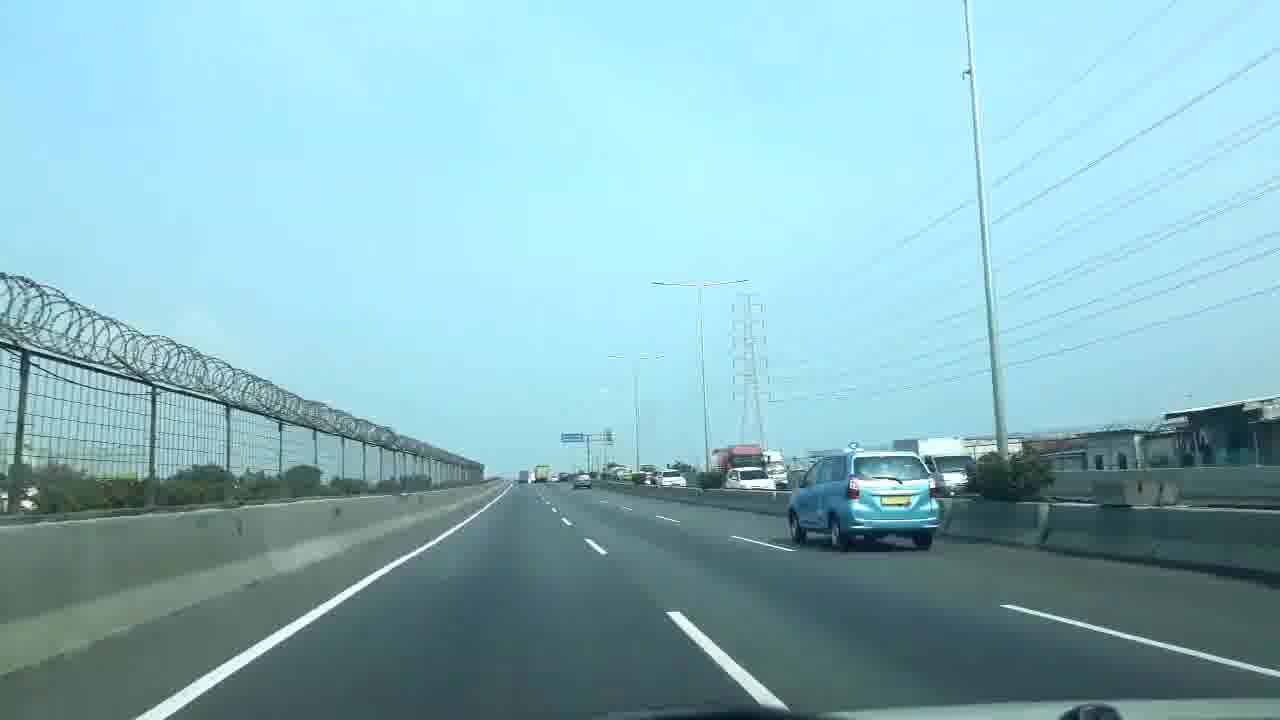plate_positive: (881, 496, 911, 506)
